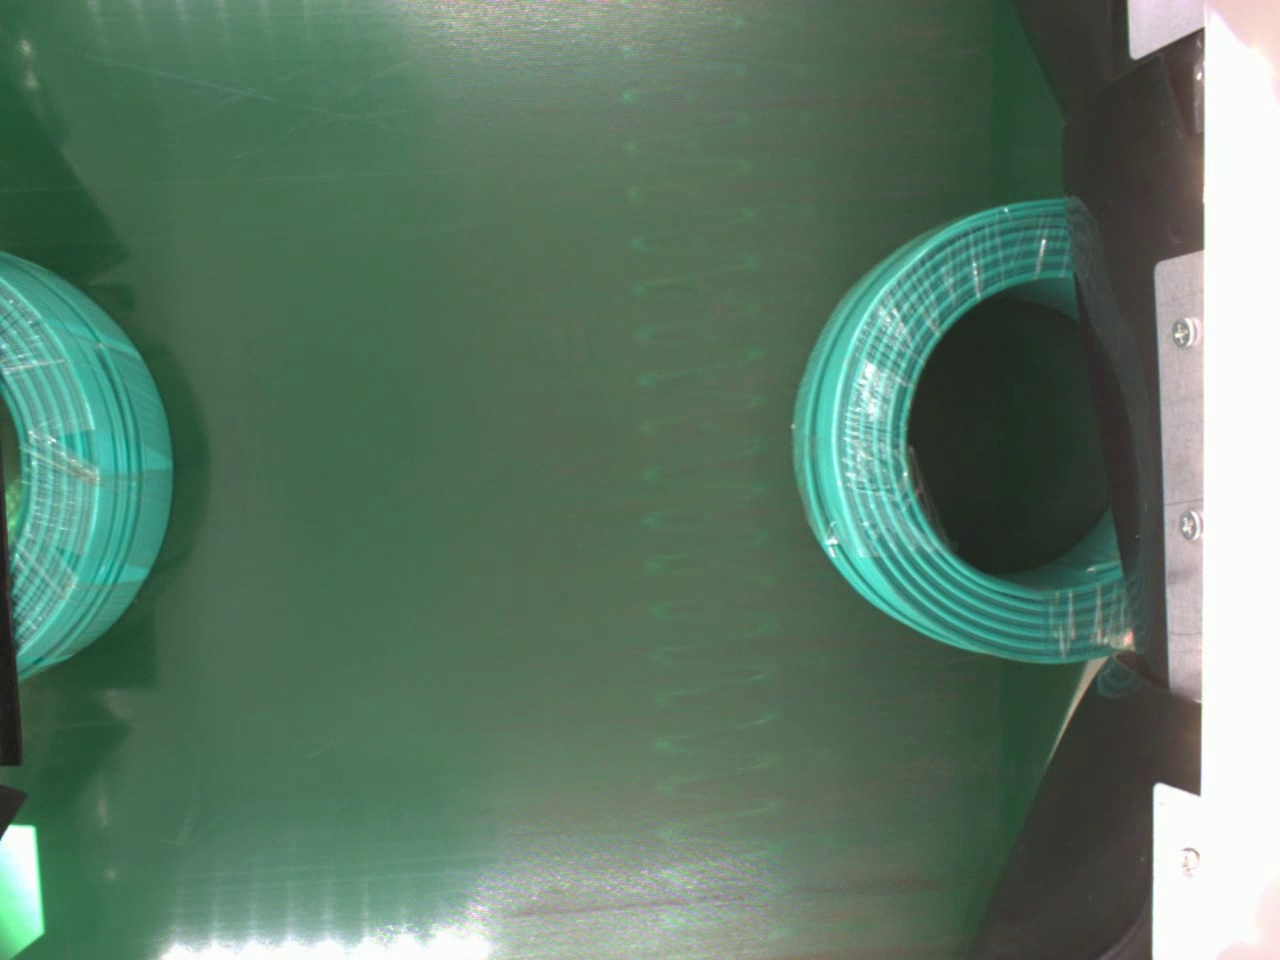green: (785, 195, 1131, 665), (0, 256, 176, 678)
